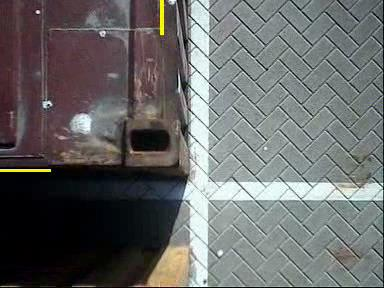groundmarker_2: (205, 50, 243, 101), (205, 220, 243, 271)
